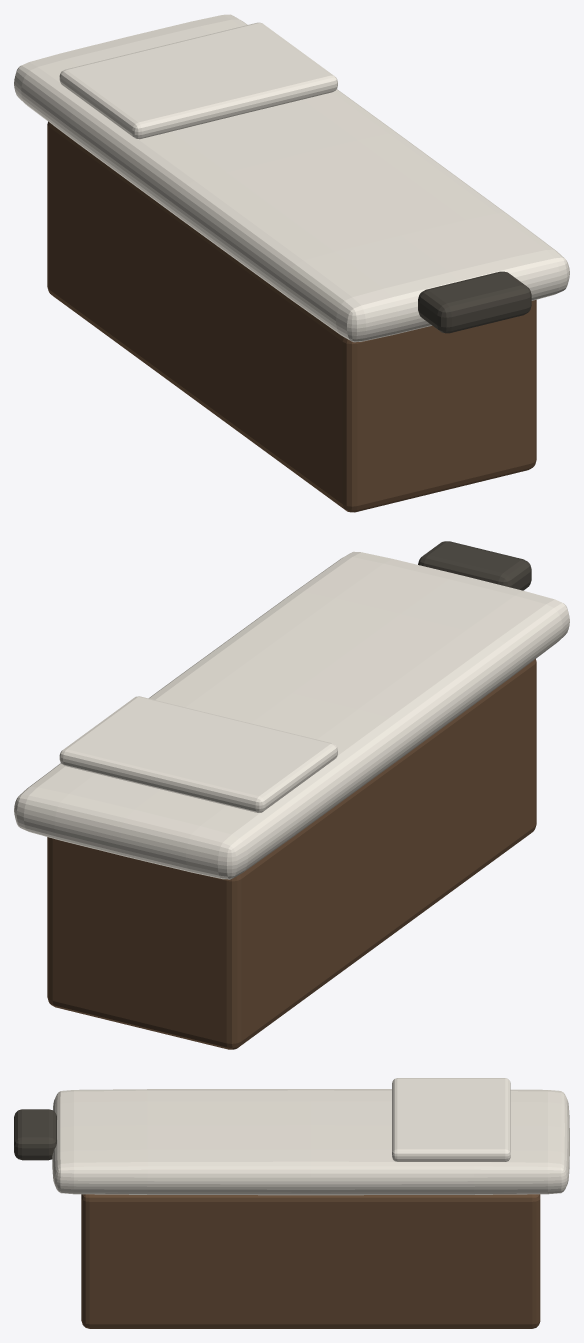
Rendered from treatment-table.glb.
3 renders of one model, top to bottom at view 1: azimuth 30°, elevation 25°; view 2: azimuth 150°, elevation 25°; view 3: azimuth 270°, elevation 25°, orthographic. The views are drawn at different scales.
Parts seen in each view (by area): view 1: spa_plinth, spa_pad, spa_towel, spa_cradle; view 2: spa_plinth, spa_pad, spa_towel, spa_cradle; view 3: spa_plinth, spa_pad, spa_towel, spa_cradle.
Part boxes in pixels (x1,y1,x2,y2): spa_plinth: [47, 121, 536, 512]; spa_pad: [14, 14, 569, 342]; spa_towel: [59, 22, 337, 139]; spa_cradle: [418, 271, 531, 333]; spa_plinth: [47, 659, 536, 1049]; spa_pad: [14, 551, 569, 879]; spa_towel: [59, 696, 337, 812]; spa_cradle: [418, 541, 531, 590]; spa_plinth: [81, 1194, 540, 1328]; spa_pad: [52, 1089, 569, 1195]; spa_towel: [392, 1078, 510, 1161]; spa_cradle: [14, 1109, 56, 1160].
Bounding box in the file's own units: 0.7386 × 0.745 × 2.06.
